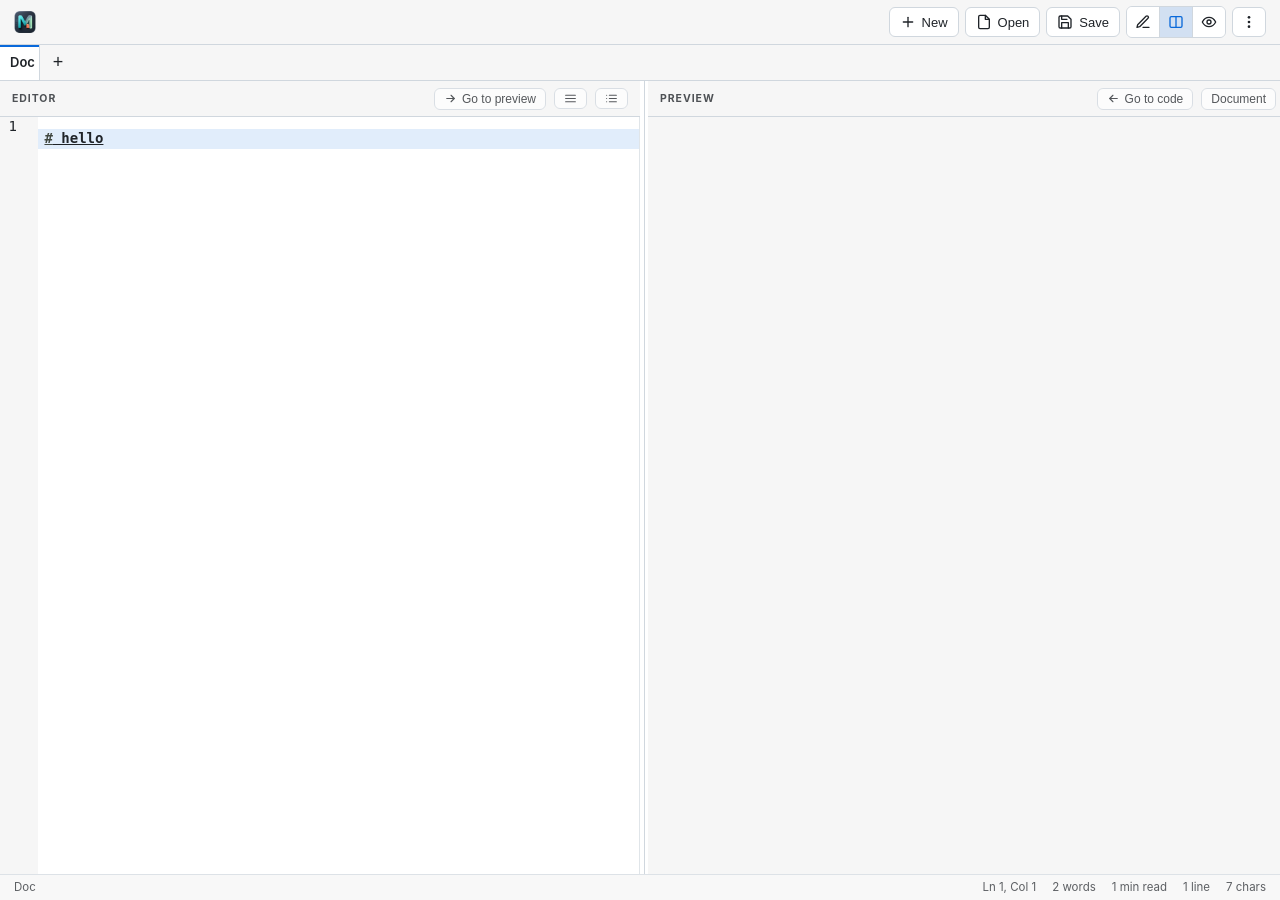
Test: shortcuts overlay (F1) › F1 is open-only: it re-opens after an animated close but never closes
Expected: the element with class "cm-editor" is shown, [0,117,639,874]
Press F1
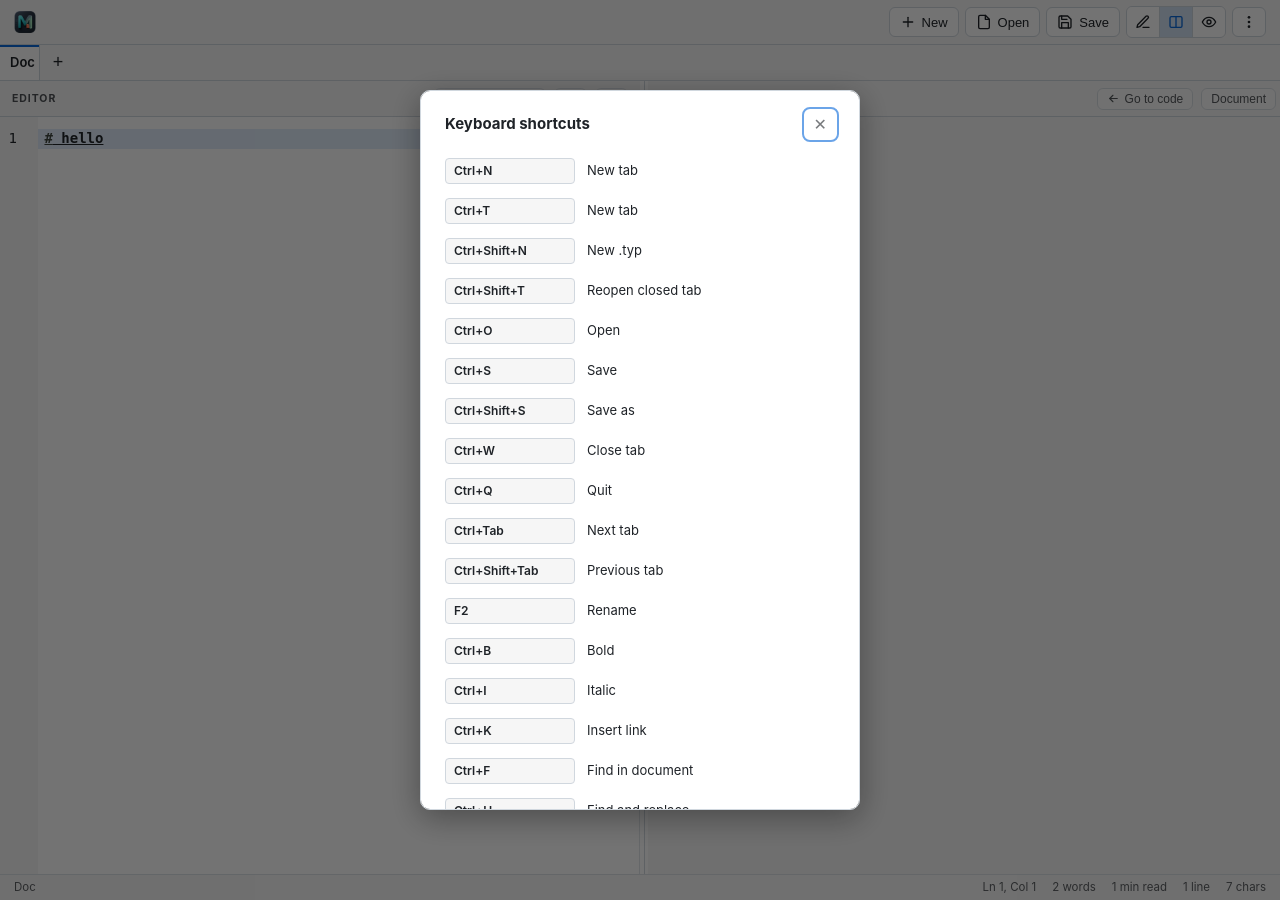
Now the dialog with class "shortcuts-overlay" is shown
Note: F1 while open must NOT close (closing routes through Esc/backdrop/✕).
Press F1
Now the dialog with class "shortcuts-overlay" is shown
Note: Close via the backdrop click (targets the overlay, not the panel).
Click the dialog with class "shortcuts-overlay" at coordinates (77, 450), box [0,0,1279,899]
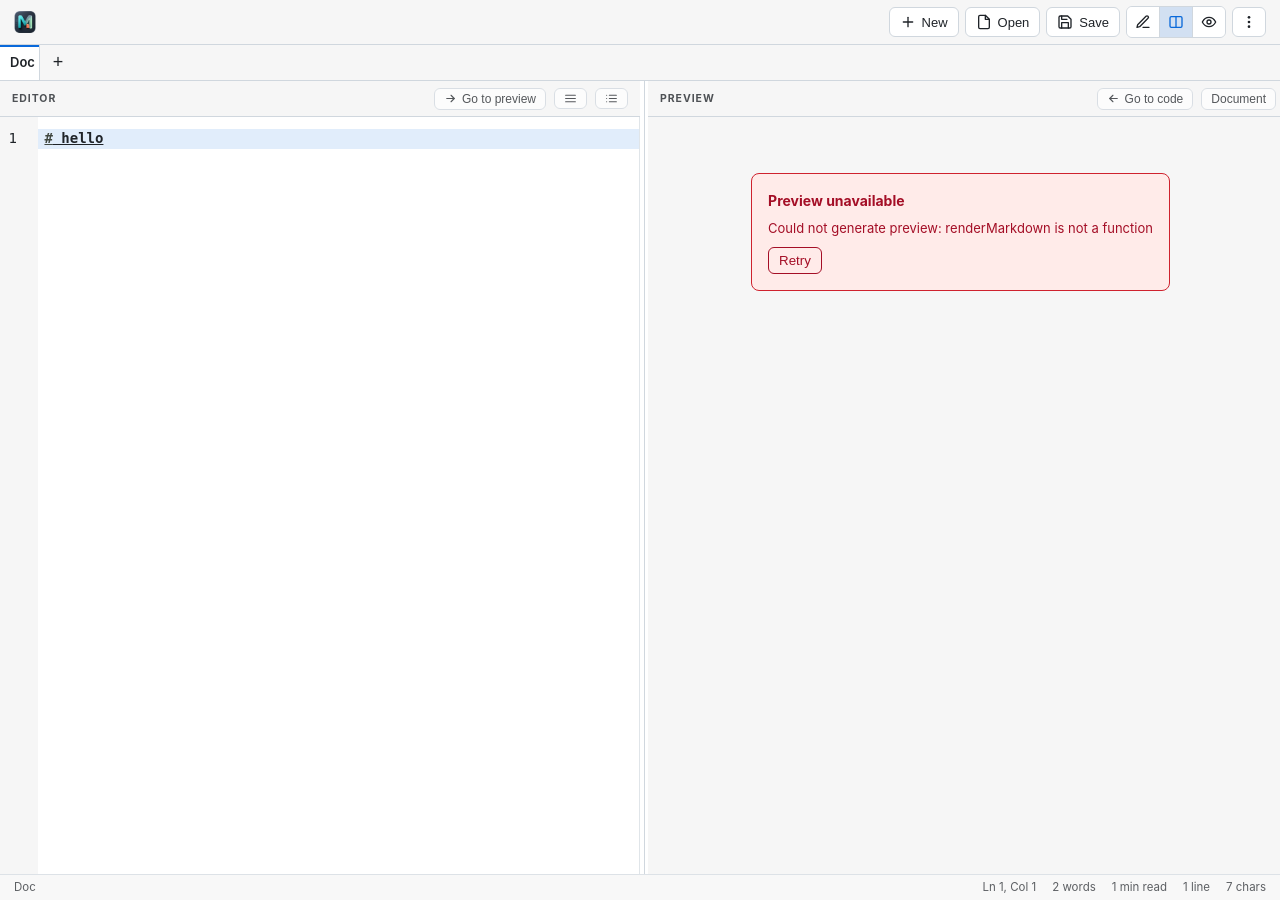
Now the dialog with class "shortcuts-overlay" is gone
Note: Open again with F1.
Press F1
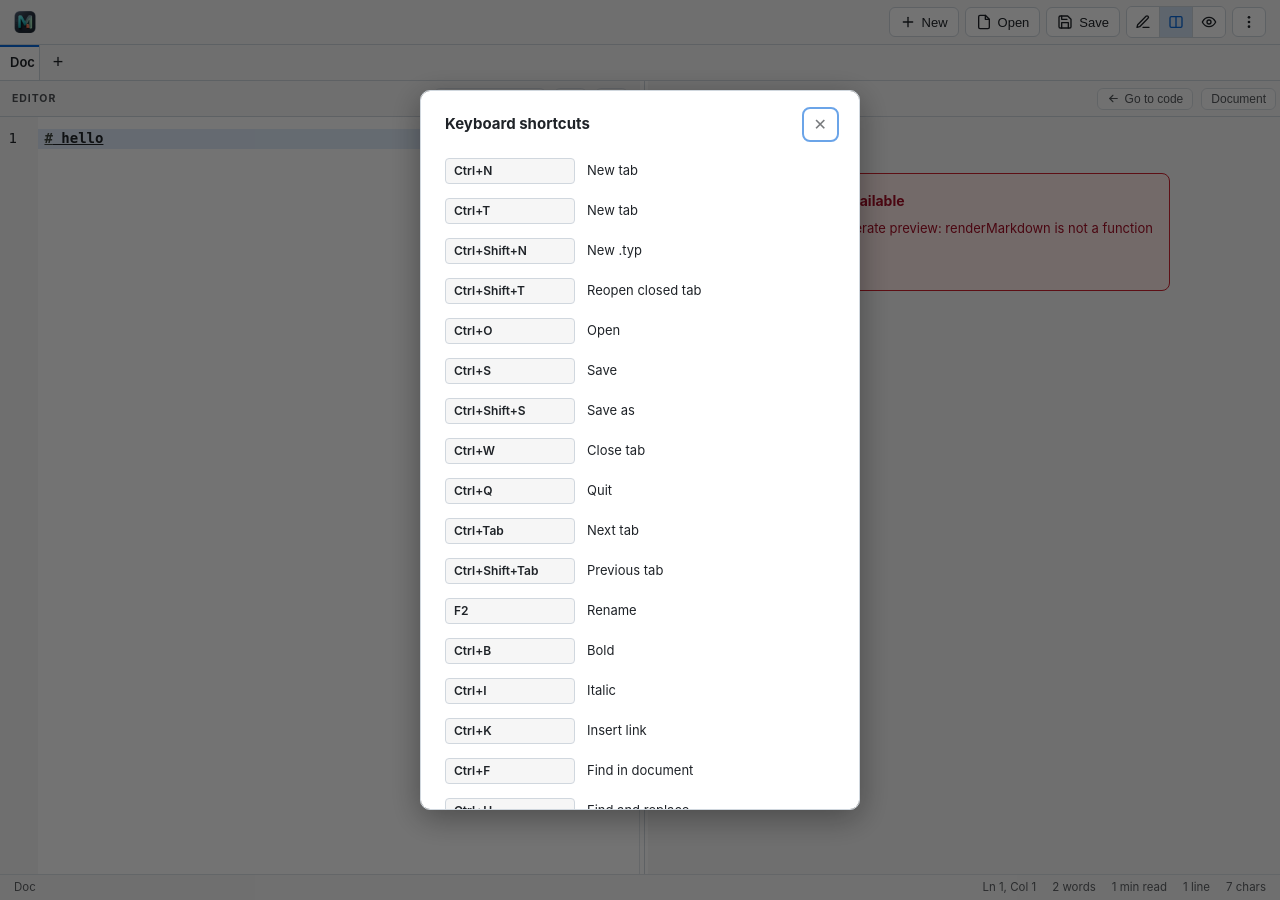
Now the dialog with class "shortcuts-overlay" is shown
